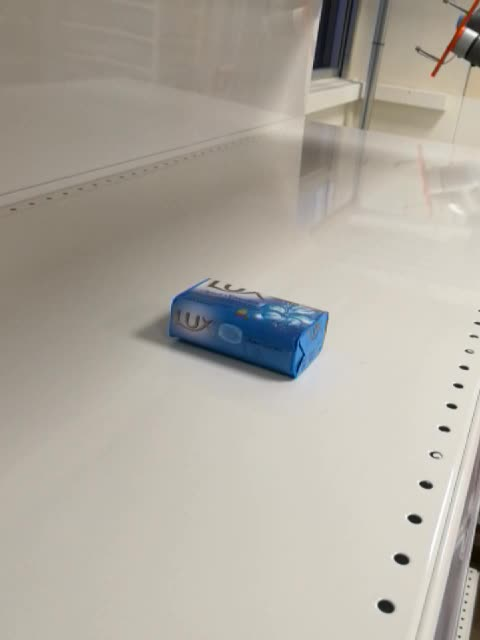soap: (166, 275, 332, 383)
